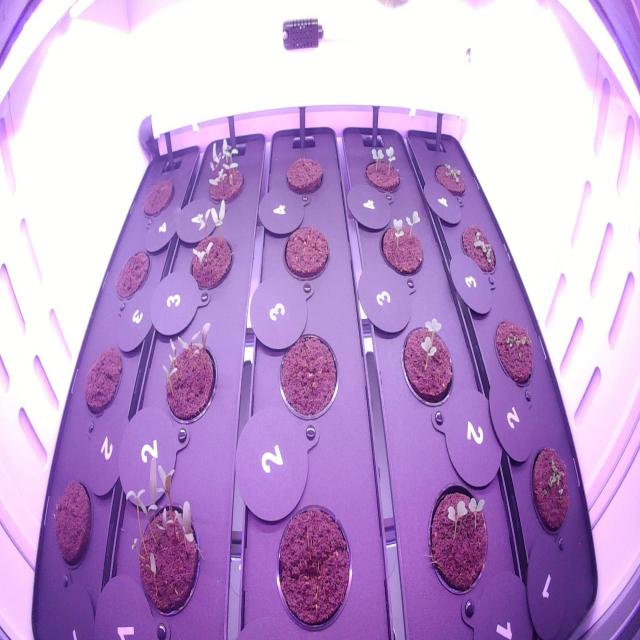germination: (119, 440, 208, 626), (420, 472, 492, 604), (156, 317, 222, 432), (394, 310, 461, 415), (180, 196, 241, 298), (524, 435, 574, 546), (372, 204, 430, 284), (196, 134, 251, 212), (488, 310, 536, 395), (454, 214, 501, 283), (357, 138, 406, 200), (429, 156, 473, 203)
pod: (266, 498, 358, 634), (272, 326, 343, 428), (45, 474, 99, 574), (77, 340, 127, 420), (278, 219, 333, 286), (111, 243, 152, 306), (281, 150, 326, 202), (140, 168, 180, 224)
